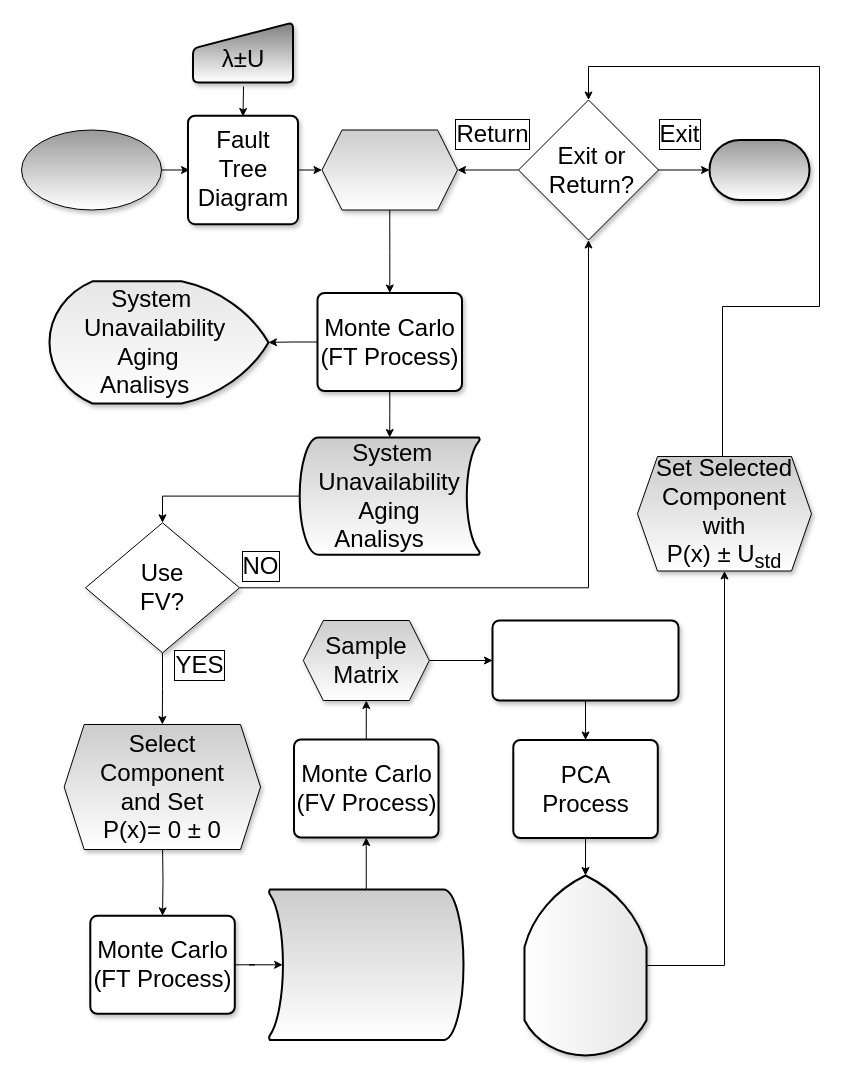
Image size: 845x1090. Some labels were removed from this diagram. Here are the shapes that lost their labels. From the top down, the centre of each, then its label:
At [92,171]: "Start Analysis".
At [390,171]: "Fault Tree Literal".
At [760,171]: "Finish Loop".
At [586,661]: "Pre-processing Matrix".
At [366,964]: "System Unavailability for Component Selected with P(x)= 0 ± 0".
At [586,966]: "Score and Loadings Graphics".
